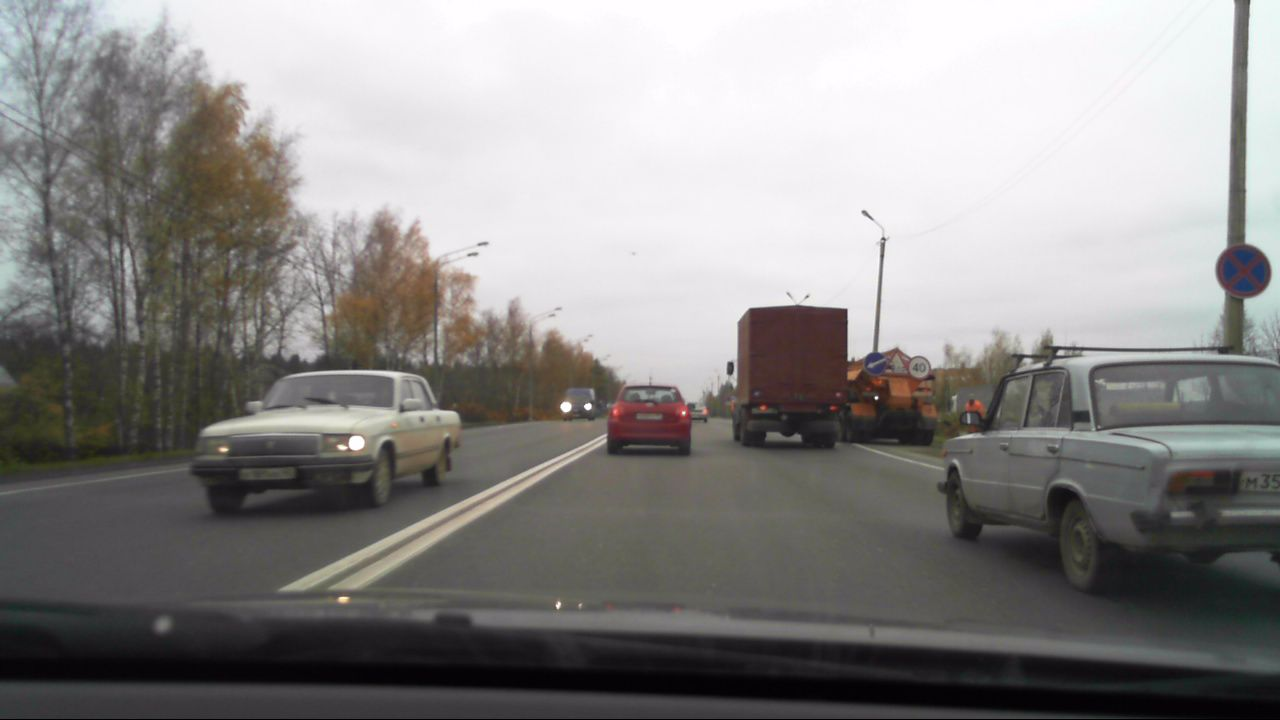No Parking: (1213, 239, 1274, 303)
speed_warning_40: (909, 355, 932, 381)
